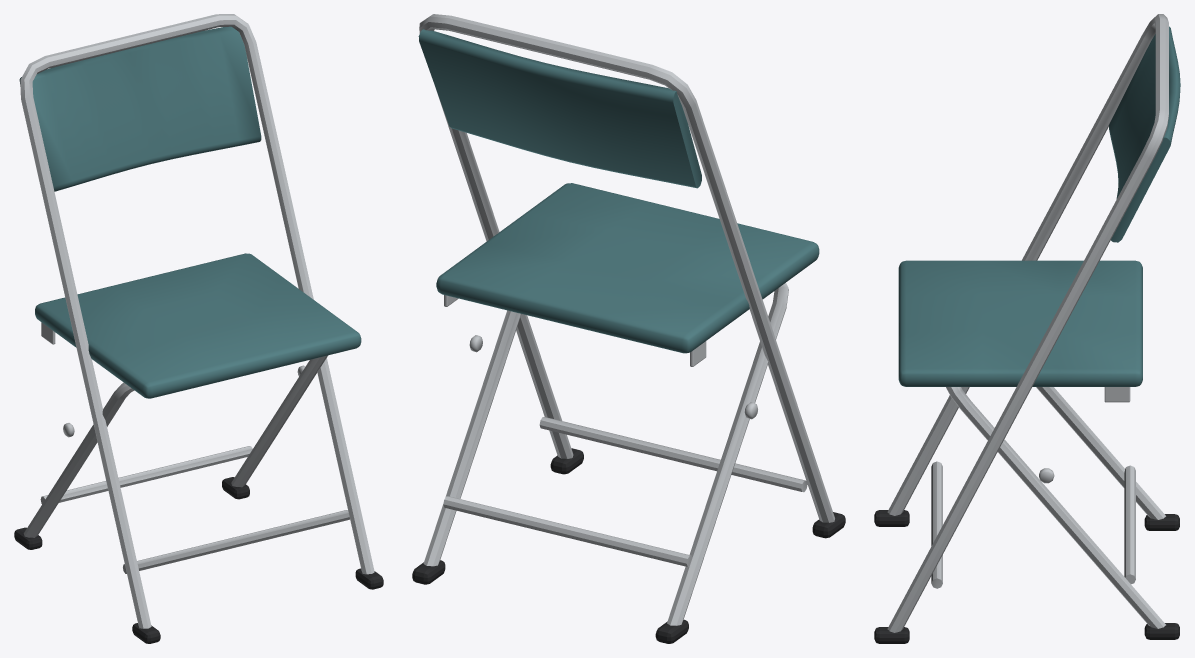
The model's file is chairFolding.glb.
3 views of the same model, side by side, from view 1: azimuth 30°, elevation 25°; view 2: azimuth 150°, elevation 25°; view 3: azimuth 270°, elevation 25° (orthographic). The views are drawn at different scales.
Visible parts, largest first — view 1: chairFolding; view 2: chairFolding; view 3: chairFolding.
Part boxes in pixels (bbox=[...]): chairFolding: bbox=[14, 14, 383, 643]; chairFolding: bbox=[412, 14, 845, 643]; chairFolding: bbox=[874, 14, 1180, 643].
Size of the model in its own units: 0.464 by 0.8904 by 0.4757.
